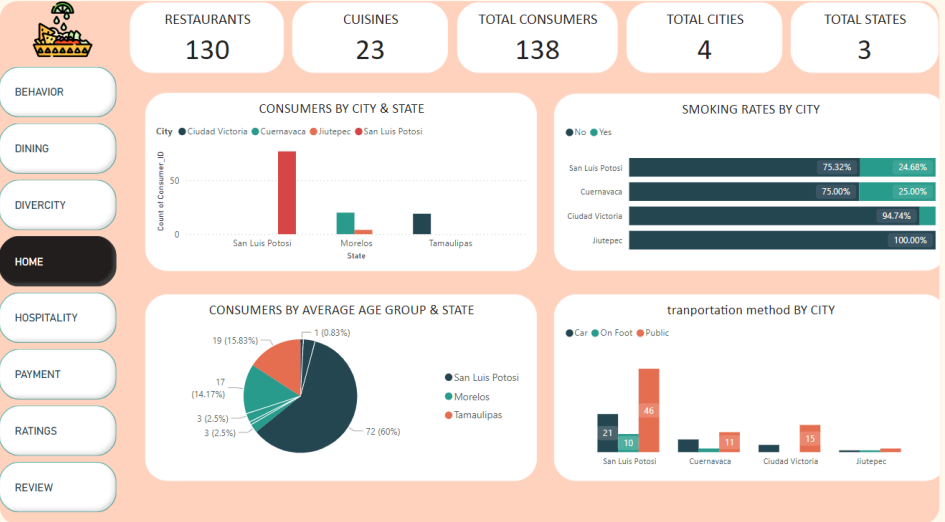

Layout of this report page (visuals, bound fields, positions):
{"tool":"powerbi","page":{"name":"HOME","canvas":[1280,720],"ordinal":0},"visuals":[{"type":"card","title":"TOTAL CITIES","fields":{"Values":["Count(restaurants.City)"]},"box":[841.2,0,210,95],"z":0},{"type":"card","title":"RESTAURANTS","fields":{"Values":["Count(restaurants.Restaurant_ID)"]},"box":[181.2,0,207.5,95],"z":1000},{"type":"card","title":"CUISINES","fields":{"Values":["Count(restaurant_cuisines.Cuisine)"]},"box":[401.2,0,210,95],"z":2000},{"type":"card","title":"TOTAL CONSUMERS","fields":{"Values":["Count(consumer_preferences.Consumer_ID)"]},"box":[620,0,216.2,95],"z":3000},{"type":"card","title":"TOTAL STATES","fields":{"Values":["Count(restaurants.State)"]},"box":[1063.8,0,207.5,95],"z":4000},{"type":"clusteredColumnChart","title":"CONSUMERS BY CITY & STATE","fields":{"Category":["consumers.State"],"Y":["CountNonNull(consumers.Consumer_ID)"],"Series":["consumers.City"]},"box":[201.2,130,527.5,240],"z":5000},{"type":"pieChart","title":"CONSUMERS BY AVERAGE AGE GROUP & STATE","fields":{"Category":["consumers.State"],"Y":["CountNonNull(consumers.Consumer_ID)"],"Series":["consumers.AgeGroup"]},"box":[201.2,401.2,527.5,251.2],"z":6000},{"type":"hundredPercentStackedBarChart","title":"SMOKING RATES BY CITY","fields":{"Y":["CountNonNull(consumers.Consumer_ID)"],"Category":["consumers.City"],"Series":["consumers.Smoker"]},"box":[751.2,131.2,528.8,238.8],"z":7000},{"type":"clusteredColumnChart","title":"tranportation method BY CITY","fields":{"Category":["consumers.City"],"Series":["consumers.Transportation_Method"],"Y":["CountNonNull(consumers.Consumer_ID)"]},"box":[751.2,401.2,528.8,251.2],"z":8000},{"type":"image","box":[0,0,181.2,90],"z":9000},{"type":"advancedSlicerVisual","fields":{"Values":["Table.pages"]},"box":[0,90,168.8,616.2],"z":10000}]}

Visuals, with their boxes in screenshot pixels (x1, y1, x2, y2), scaled from the page's 1280x720 canvas onto the 945x522 screenshot:
"TOTAL CITIES" card: 621/0/776/69
"RESTAURANTS" card: 134/0/287/69
"CUISINES" card: 296/0/451/69
"TOTAL CONSUMERS" card: 458/0/617/69
"TOTAL STATES" card: 785/0/939/69
"CONSUMERS BY CITY & STATE" clusteredColumnChart: 149/94/538/268
"CONSUMERS BY AVERAGE AGE GROUP & STATE" pieChart: 149/291/538/473
"SMOKING RATES BY CITY" hundredPercentStackedBarChart: 555/95/944/268
"tranportation method BY CITY" clusteredColumnChart: 555/291/944/473
image: 0/0/134/65
advancedSlicerVisual - Table.pages: 0/65/125/512
